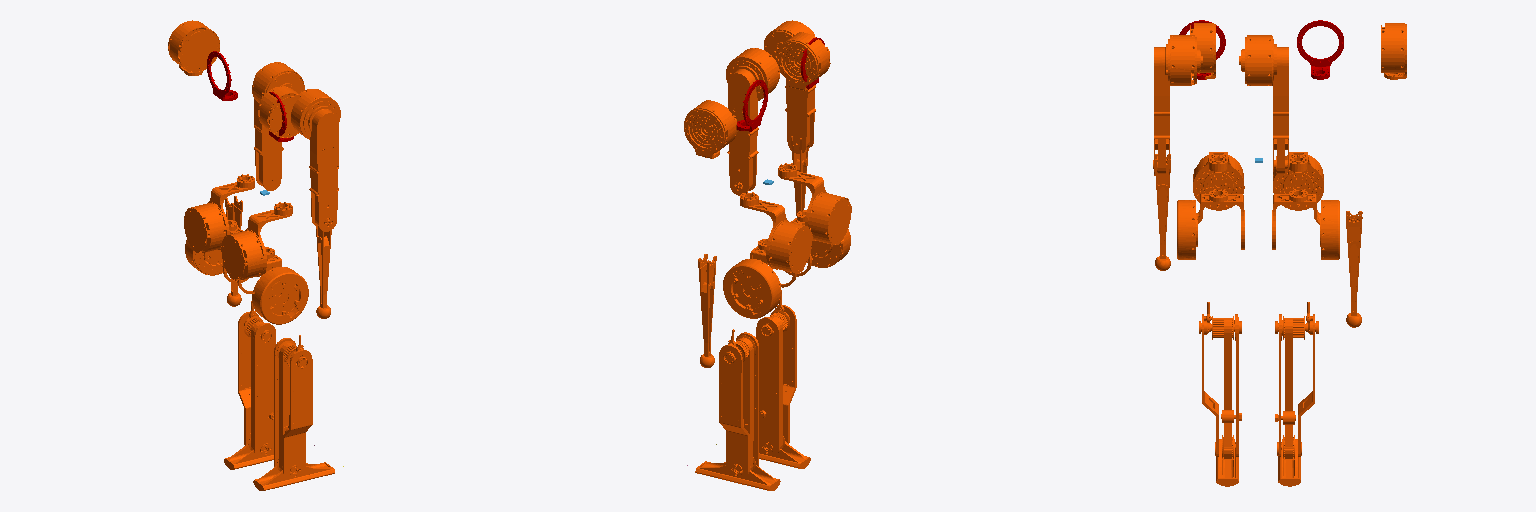
--- Facts derived from the render (not from the file) ---
Views: 3 orthographic renders of the robot side by side, from view 1: azimuth 30°, elevation 25°; view 2: azimuth 150°, elevation 25°; view 3: azimuth 270°, elevation 25°.
Model robot with 18 links and 17 joints (16 revolute, 1 fixed), rooted at base, posed every joint at zero.
Visible links, largest first — view 1: R_LShank, L_LShank, R_LUpperArm, R_LHipRx, L_LUpperArm, L_LForeArm, R_LHipRz, L_LHipRz, R_LForeArm, R_Foot, L_LHipRx, L_Foot (+1 smaller); view 2: L_LShank, R_LShank, L_LUpperArm, L_LForeArm, L_LHipRx, L_LHipRz, R_LForeArm, R_LHipRz, R_LUpperArm, L_Foot, R_LHipRx, R_Foot (+1 smaller); view 3: L_LUpperArm, R_LUpperArm, R_LShank, L_LForeArm, L_LShank, R_LForeArm, R_LHipRx, L_LHipRx, R_LHipRz, L_LHipRz, L_LShoulderRx, L_Foot (+1 smaller).
Link boxes in pixels (x1,y1,x2,y2): R_LShank: [274, 335, 312, 476]; L_LShank: [238, 301, 275, 455]; R_LUpperArm: [291, 89, 340, 231]; R_LHipRx: [237, 247, 308, 324]; L_LUpperArm: [252, 62, 304, 190]; L_LForeArm: [168, 20, 242, 306]; R_LHipRz: [221, 202, 292, 280]; L_LHipRz: [184, 174, 254, 252]; R_LForeArm: [258, 86, 331, 318]; R_Foot: [253, 459, 343, 490]; L_LHipRx: [185, 220, 247, 283]; L_Foot: [224, 438, 314, 469]; L_LShank: [719, 329, 758, 476]; R_LShank: [756, 294, 796, 453]; L_LUpperArm: [726, 48, 779, 195]; L_LForeArm: [684, 100, 737, 367]; L_LHipRx: [723, 239, 796, 318]; L_LHipRz: [740, 191, 812, 273]; R_LForeArm: [777, 32, 830, 215]; R_LHipRz: [778, 163, 851, 244]; R_LUpperArm: [764, 20, 815, 153]; L_Foot: [687, 457, 780, 490]; R_LHipRx: [785, 210, 850, 276]; R_Foot: [716, 436, 810, 468]; L_LUpperArm: [1239, 35, 1289, 175]; R_LUpperArm: [1153, 35, 1202, 175]; R_LShank: [1199, 302, 1241, 458]; L_LForeArm: [1346, 23, 1406, 327]; L_LShank: [1275, 302, 1318, 458]; R_LForeArm: [1155, 23, 1215, 270]; R_LHipRx: [1177, 190, 1244, 259]; L_LHipRx: [1272, 190, 1339, 259]; R_LHipRz: [1193, 152, 1244, 210]; L_LHipRz: [1273, 152, 1323, 210]; L_LShoulderRx: [1297, 20, 1343, 79]; L_Foot: [1278, 435, 1300, 486].
Size in the robot's own frame: 0.266 by 0.4786 by 0.8937 metres.
16 mesh visuals loaded from 17 distinct referenced files (14 OBJ); not drawn: 3 (reference not matched to a file when rendering).

The robot description file, URDF, robot "robot":
<?xml version="1.0" ?>
<!-- =================================================================================== -->
<!-- |    This document was autogenerated by xacro from [local-path]/Desktop/legged_control_zidong/src/legged_examples/legged_unitree/legged_unitree_description/urdf/robot.xacro | -->
<!-- |    EDITING THIS FILE BY HAND IS NOT RECOMMENDED                                 | -->
<!-- =================================================================================== -->
<robot name="robot">
  <material name="black">
    <color rgba="0.0 0.0 0.0 1.0"/>
  </material>
  <material name="blue">
    <color rgba="0.0 0.0 0.8 1.0"/>
  </material>
  <material name="green">
    <color rgba="0.0 0.8 0.0 1.0"/>
  </material>
  <material name="grey">
    <color rgba="0.2 0.2 0.2 1.0"/>
  </material>
  <material name="silver">
    <color rgba="0.9137254901960784 0.9137254901960784 0.8470588235294118 1.0"/>
  </material>
  <material name="orange">
    <color rgba="1.0 0.4235294117647059 0.0392156862745098 1.0"/>
  </material>
  <material name="brown">
    <color rgba="0.8705882352941177 0.8117647058823529 0.7647058823529411 1.0"/>
  </material>
  <material name="red">
    <color rgba="0.8 0.0 0.0 1.0"/>
  </material>
  <material name="white">
    <color rgba="1.0 1.0 1.0 1.0"/>
  </material>
  <!-- ros_control plugin -->
  <gazebo>
    <plugin filename="liblegged_hw_sim.so" name="gazebo_ros_control">
      <robotNamespace>/</robotNamespace>
      <robotParam>legged_robot_description</robotParam>
      <robotSimType>legged_gazebo/LeggedHWSim</robotSimType>
    </plugin>
  </gazebo>
  <gazebo>
    <plugin filename="libgazebo_ros_p3d.so" name="p3d_base_controller">
      <alwaysOn>true</alwaysOn>
      <updateRate>1000.0</updateRate>
      <bodyName>base</bodyName>
      <topicName>ground_truth/state</topicName>
      <gaussianNoise>0</gaussianNoise>
      <frameName>world</frameName>
      <xyzOffsets>0 0 0</xyzOffsets>
      <rpyOffsets>0 0 0</rpyOffsets>
    </plugin>
  </gazebo>
  <link name="base">
    <visual>
      <origin rpy="0 0 0" xyz="0 0 0"/>
      <geometry>
        <mesh filename="package://legged_unitree_description/meshes/a1/Body.obj" scale="1 1 1"/>
      </geometry>
    </visual>
    <collision>
      <origin rpy="0 0 0" xyz="0 0 0"/>
      <geometry>
        <box size="0.267 0.194 0.114"/>
      </geometry>
    </collision>
    <inertial>
      <origin rpy="0 0 0" xyz="0.0 0.0 0.15"/>
      <mass value="6.5"/>
      <inertia ixx="0.3006167" ixy="-0.0" ixz="-0.0" iyy="0.23837" iyz="-0.0" izz="0.09690467"/>
    </inertial>
  </link>
  <!-- Imu is fixed to the base link -->
  <joint name="unitree_imu_joint" type="fixed">
    <origin rpy="0. 0. 0." xyz="0. 0. 0."/>
    <parent link="base"/>
    <child link="unitree_imu"/>
  </joint>
  <!-- Imu link -->
  <link name="unitree_imu">
    <inertial>
      <mass value="0.01"/>
      <origin rpy="0 0 0" xyz="0 0 0"/>
      <inertia ixx="0.000001" ixy="0" ixz="0" iyy="0.000001" iyz="0" izz="0.000001"/>
    </inertial>
    <visual>
      <origin rpy="0 0 0" xyz="0 0 0"/>
      <geometry>
        <box size="0.015 0.015 0.004"/>
      </geometry>
    </visual>
    <material name="orange">
      <color rgba="255 108 10 255"/>
    </material>
  </link>
  <gazebo reference="unitree_imu">
    <material>Gazebo/Orange</material>
  </gazebo>
  <gazebo reference="unitree_imu_joint">
    <disableFixedJointLumping>true</disableFixedJointLumping>
  </gazebo>
  <joint name="L_JHipRz" type="revolute">
    <origin rpy="0 0 0" xyz="0 0.075 0"/>
    <parent link="base"/>
    <child link="L_LHipRz"/>
    <axis xyz="0 0 1"/>
    <dynamics damping="100" friction="100"/>
    <limit effort="33.5" lower="-3" upper="3" velocity="21"/>
  </joint>
  <link name="L_LHipRz">
    <visual>
      <origin rpy="0 0 0.0" xyz="0 0 0"/>
      <geometry>
        <mesh filename="package://legged_unitree_description/meshes/a1/L_HipRz.obj" scale="1 1 1"/>
      </geometry>
      <material name="orange"/>
    </visual>
    <inertial>
      <origin rpy="0 0 0" xyz="0.0 0.0 -0.01"/>
      <mass value="0.30"/>
      <inertia ixx="0.003735" ixy="0.0" ixz="0.0" iyy="0.01391" iyz="0.0" izz="0.01355"/>
    </inertial>
  </link>
  <joint name="L_JHipRx" type="revolute">
    <origin rpy="0 0 0" xyz="-0.041 0.0 -0.0885"/>
    <parent link="L_LHipRz"/>
    <child link="L_LHipRx"/>
    <axis xyz="1 0 0"/>
    <dynamics damping="100" friction="100"/>
    <limit effort="33.5" lower="-3" upper="3" velocity="33.5"/>
  </joint>
  <link name="L_LHipRx">
    <visual>
      <origin rpy="0 0 0" xyz="0. 0.00 0.0"/>
      <origin rpy="0 0 0.0" xyz="0 0 0.0"/>
      <geometry>
        <mesh filename="package://legged_unitree_description/meshes/a1/L_HipRx.obj" scale="1 1 1"/>
      </geometry>
      <material name="orange"/>
    </visual>
    <inertial>
      <origin rpy="0 0 0" xyz="0.0 0.0 -0.01"/>
      <mass value="0.30"/>
      <inertia ixx="0.003735" ixy="0.0" ixz="0.0" iyy="0.01391" iyz="0.0" izz="0.01355"/>
    </inertial>
  </link>
  <joint name="L_JThigh" type="revolute">
    <origin rpy="0 0 0" xyz="0.065 0.0 0.0"/>
    <parent link="L_LHipRx"/>
    <child link="L_LThigh"/>
    <axis xyz="0 1 0"/>
    <dynamics damping="100" friction="100"/>
    <limit effort="33.5" lower="-3" upper="3" velocity="33.5"/>
  </joint>
  <link name="L_LThigh">
    <visual>
      <origin rpy="1.57 1.57 -0" xyz="0. 0.0 0.0"/>
      <origin rpy="1.57 1.57 0.0" xyz="0 0.0 0.0"/>
      <geometry>
        <mesh filename="package://legged_unitree_description/meshes/a1/L_Thigh.obj" scale="1 1 1"/>
      </geometry>
      <material name="orange"/>
    </visual>
    <inertial>
      <origin rpy="0 0 0" xyz="0.0 0.0 -0.01"/>
      <mass value="1.0"/>
      <inertia ixx="0.003735" ixy="0.0" ixz="0.0" iyy="0.01391" iyz="0.0" izz="0.01355"/>
    </inertial>
  </link>
  <joint name="L_JKnee" type="revolute">
    <origin rpy="0 0 0" xyz="0.0 -0.017875 -0.247"/>
    <parent link="L_LThigh"/>
    <child link="L_LShank"/>
    <axis xyz="0 1 0"/>
    <dynamics damping="100" friction="100"/>
    <limit effort="33.5" lower="-3" upper="3" velocity="33.5"/>
  </joint>
  <link name="L_LShank">
    <visual>
      <origin rpy="1.57 1.57 0" xyz="0 -0.0 0"/>
      <geometry>
        <mesh filename="package://legged_unitree_description/meshes/a1/L_LowerLeg3_drawing.obj" scale="1 1 1"/>
      </geometry>
      <material name="orange"/>
    </visual>
    <inertial>
      <origin rpy="0 0 0" xyz="-0.03416 -0.00075 -0.01"/>
      <mass value="0.70"/>
      <inertia ixx="0.003735" ixy="0.0" ixz="0.0" iyy="0.01391" iyz="0.0" izz="0.01355"/>
    </inertial>
  </link>
  <joint name="L_JAnkle" type="revolute">
    <origin rpy="0 0 0" xyz="0.0 0.0 -0.247"/>
    <parent link="L_LShank"/>
    <child link="L_Foot"/>
    <axis xyz="0 1 0"/>
    <dynamics damping="100" friction="100"/>
    <limit effort="33.5" lower="-3" upper="3" velocity="33.5"/>
  </joint>
  <link name="L_Foot">
    <visual>
      <origin rpy="1.57 1.57 0" xyz="0 0 0"/>
      <geometry>
        <mesh filename="package://legged_unitree_description/meshes/a1/L_foot_drawing.obj" scale="1 1 1"/>
      </geometry>
      <material name="orange"/>
    </visual>
    <visual>
      <geometry>
        <sphere radius="0.001"/>
      </geometry>
      <origin rpy="0 0 0" xyz="0.125 0.0 -0.033"/>
    </visual>
    <collision>
      <geometry>
        <sphere radius="0.0"/>
      </geometry>
      <origin rpy="0 0 0" xyz="0.125 0.0 -0.033"/>
    </collision>
    <visual>
      <geometry>
        <sphere radius="0.001"/>
      </geometry>
      <origin rpy="0 0 0" xyz="-0.025 0.0 -0.033"/>
    </visual>
    <collision>
      <geometry>
        <sphere radius="0.0"/>
      </geometry>
      <origin rpy="0 0 0" xyz="-0.025 0.0 -0.033"/>
    </collision>
    <inertial>
      <origin rpy="0 0 0" xyz="0.0 0.0 -0.01"/>
      <mass value="0.30"/>
      <inertia ixx="0.003735" ixy="0.0" ixz="0.0" iyy="0.01391" iyz="0.0" izz="0.01355"/>
    </inertial>
  </link>
  <gazebo reference="L_LHipRz">
    <mu1>0.2</mu1>
    <mu2>0.2</mu2>
    <material>Gazebo/DarkGrey</material>
    <kp value="1000000.0"/>
    <kd value="100.0"/>
  </gazebo>
  <gazebo reference="L_LHipRx">
    <mu1>0.2</mu1>
    <mu2>0.2</mu2>
    <material>Gazebo/DarkGrey</material>
    <kp value="1000000.0"/>
    <kd value="100.0"/>
  </gazebo>
  <gazebo reference="L_LThigh">
    <mu1>0.2</mu1>
    <mu2>0.2</mu2>
    <material>Gazebo/DarkGrey</material>
    <kp value="1000000.0"/>
    <kd value="100.0"/>
  </gazebo>
  <gazebo reference="L_LShank">
    <mu1>0.2</mu1>
    <mu2>0.2</mu2>
    <material>Gazebo/DarkGrey</material>
    <kp value="1000000.0"/>
    <kd value="100.0"/>
  </gazebo>
  <gazebo reference="L_Foot">
    <mu1>0.2</mu1>
    <mu2>0.2</mu2>
    <material>Gazebo/DarkGrey</material>
    <kp value="1000000.0"/>
    <kd value="100.0"/>
  </gazebo>
  <transmission name="L_JHipRz_tran">
    <type>transmission_interface/SimpleTransmission</type>
    <joint name="L_JHipRz">
      <hardwareInterface>hardware_interface/EffortJointInterface</hardwareInterface>
    </joint>
    <actuator name="L_JHipRz_motor">
      <hardwareInterface>hardware_interface/EffortJointInterface</hardwareInterface>
      <mechanicalReduction>1</mechanicalReduction>
    </actuator>
  </transmission>
  <transmission name="L_JHipRx_tran">
    <type>transmission_interface/SimpleTransmission</type>
    <joint name="L_JHipRx">
      <hardwareInterface>hardware_interface/EffortJointInterface</hardwareInterface>
    </joint>
    <actuator name="L_JHipRx_motor">
      <hardwareInterface>hardware_interface/EffortJointInterface</hardwareInterface>
      <mechanicalReduction>1</mechanicalReduction>
    </actuator>
  </transmission>
  <transmission name="L_JThigh_tran">
    <type>transmission_interface/SimpleTransmission</type>
    <joint name="L_JThigh">
      <hardwareInterface>hardware_interface/EffortJointInterface</hardwareInterface>
    </joint>
    <actuator name="L_JThigh_motor">
      <hardwareInterface>hardware_interface/EffortJointInterface</hardwareInterface>
      <mechanicalReduction>1</mechanicalReduction>
    </actuator>
  </transmission>
  <transmission name="L_JKnee_tran">
    <type>transmission_interface/SimpleTransmission</type>
    <joint name="L_JKnee">
      <hardwareInterface>hardware_interface/EffortJointInterface</hardwareInterface>
    </joint>
    <actuator name="L_JKnee_motor">
      <hardwareInterface>hardware_interface/EffortJointInterface</hardwareInterface>
      <mechanicalReduction>1</mechanicalReduction>
    </actuator>
  </transmission>
  <transmission name="L_JAnkle_tran">
    <type>transmission_interface/SimpleTransmission</type>
    <joint name="L_JAnkle">
      <hardwareInterface>hardware_interface/EffortJointInterface</hardwareInterface>
    </joint>
    <actuator name="L_JAnkle_motor">
      <hardwareInterface>hardware_interface/EffortJointInterface</hardwareInterface>
      <mechanicalReduction>1</mechanicalReduction>
    </actuator>
  </transmission>
  <joint name="R_JHipRz" type="revolute">
    <origin rpy="0 0 0" xyz="0 -0.075 0"/>
    <parent link="base"/>
    <child link="R_LHipRz"/>
    <axis xyz="0 0 1"/>
    <dynamics damping="100" friction="100"/>
    <limit effort="33.5" lower="-3" upper="3" velocity="21"/>
  </joint>
  <link name="R_LHipRz">
    <visual>
      <origin rpy="0 0 0.0" xyz="0 0 0"/>
      <geometry>
        <mesh filename="package://legged_unitree_description/meshes/a1/R_HipRz.obj" scale="1 1 1"/>
      </geometry>
      <material name="orange"/>
    </visual>
    <inertial>
      <origin rpy="0 0 0" xyz="0.0 0.0 -0.01"/>
      <mass value="0.30"/>
      <inertia ixx="0.003735" ixy="0.0" ixz="0.0" iyy="0.01391" iyz="0.0" izz="0.01355"/>
    </inertial>
  </link>
  <joint name="R_JHipRx" type="revolute">
    <origin rpy="0 0 0" xyz="-0.041 0.0 -0.0885"/>
    <parent link="R_LHipRz"/>
    <child link="R_LHipRx"/>
    <axis xyz="1 0 0"/>
    <dynamics damping="100" friction="100"/>
    <limit effort="33.5" lower="-3" upper="3" velocity="33.5"/>
  </joint>
  <link name="R_LHipRx">
    <visual>
      <origin rpy="0 0 0.0" xyz="0 0 0.0"/>
      <geometry>
        <mesh filename="package://legged_unitree_description/meshes/a1/R_HipRx.obj" scale="1 1 1"/>
      </geometry>
      <material name="orange"/>
    </visual>
    <inertial>
      <origin rpy="0 0 0" xyz="0.0 0.0 -0.01"/>
      <mass value="0.30"/>
      <inertia ixx="0.003735" ixy="0.0" ixz="0.0" iyy="0.01391" iyz="0.0" izz="0.01355"/>
    </inertial>
  </link>
  <joint name="R_JThigh" type="revolute">
    <origin rpy="0 0 0" xyz="0.065 0.0 0.0"/>
    <parent link="R_LHipRx"/>
    <child link="R_LThigh"/>
    <axis xyz="0 1 0"/>
    <dynamics damping="100" friction="100"/>
    <limit effort="33.5" lower="-3" upper="3" velocity="33.5"/>
  </joint>
  <link name="R_LThigh">
    <visual>
      <origin rpy="1.57 1.57 0.0" xyz="0 0.0 0.0"/>
      <geometry>
        <mesh filename="package://legged_unitree_description/meshes/a1/R_Thigh.obj" scale="1 1 1"/>
      </geometry>
      <material name="orange"/>
    </visual>
    <inertial>
      <origin rpy="0 0 0" xyz="0.0 0.0 -0.01"/>
      <mass value="1.0"/>
      <inertia ixx="0.003735" ixy="0.0" ixz="0.0" iyy="0.01391" iyz="0.0" izz="0.01355"/>
    </inertial>
  </link>
  <joint name="R_JKnee" type="revolute">
    <origin rpy="0 0 0" xyz="0.0 0.017875 -0.247"/>
    <parent link="R_LThigh"/>
    <child link="R_LShank"/>
    <axis xyz="0 1 0"/>
    <dynamics damping="100" friction="100"/>
    <limit effort="33.5" lower="-3" upper="3" velocity="33.5"/>
  </joint>
  <link name="R_LShank">
    <visual>
      <origin rpy="1.57 1.57 0" xyz="0 -0.0 0"/>
      <geometry>
        <mesh filename="package://legged_unitree_description/meshes/a1/R_LowerLeg3_drawing.obj" scale="1 1 1"/>
      </geometry>
      <material name="orange"/>
    </visual>
    <inertial>
      <origin rpy="0 0 0" xyz="-0.03416 -0.00075 -0.01"/>
      <mass value="0.70"/>
      <inertia ixx="0.003735" ixy="0.0" ixz="0.0" iyy="0.01391" iyz="0.0" izz="0.01355"/>
    </inertial>
  </link>
  <joint name="R_JAnkle" type="revolute">
    <origin rpy="0 0 0" xyz="0.0 0.0 -0.247"/>
    <parent link="R_LShank"/>
    <child link="R_Foot"/>
    <axis xyz="0 1 0"/>
    <dynamics damping="100" friction="100"/>
    <limit effort="33.5" lower="-3" upper="3" velocity="33.5"/>
  </joint>
  <link name="R_Foot">
    <visual>
      <origin rpy="1.57 1.57 0" xyz="0 0 0"/>
      <geometry>
        <mesh filename="package://legged_unitree_description/meshes/a1/R_foot_drawing.obj" scale="1 1 1"/>
      </geometry>
      <material name="orange"/>
    </visual>
    <visual>
      <geometry>
        <sphere radius="0.001"/>
      </geometry>
      <origin rpy="0 0 0" xyz="0.125 0.0 -0.033"/>
    </visual>
    <collision>
      <geometry>
        <sphere radius="0.0"/>
      </geometry>
      <origin rpy="0 0 0" xyz="0.125 0.0 -0.033"/>
    </collision>
    <visual>
      <geometry>
        <sphere radius="0.001"/>
      </geometry>
      <origin rpy="0 0 0" xyz="-0.025 0.0 -0.033"/>
    </visual>
    <collision>
      <geometry>
        <sphere radius="0.0"/>
      </geometry>
      <origin rpy="0 0 0" xyz="-0.025 0.0 -0.033"/>
    </collision>
    <inertial>
      <origin rpy="0 0 0" xyz="0.0 0.0 -0.01"/>
      <mass value="0.30"/>
      <inertia ixx="0.003735" ixy="0.0" ixz="0.0" iyy="0.01391" iyz="0.0" izz="0.01355"/>
    </inertial>
  </link>
  <gazebo reference="R_LHipRz">
    <mu1>0.2</mu1>
    <mu2>0.2</mu2>
    <material>Gazebo/DarkGrey</material>
    <kp value="1000000.0"/>
    <kd value="100.0"/>
  </gazebo>
  <gazebo reference="R_LHipRx">
    <mu1>0.2</mu1>
    <mu2>0.2</mu2>
    <material>Gazebo/DarkGrey</material>
    <kp value="1000000.0"/>
    <kd value="100.0"/>
  </gazebo>
  <gazebo reference="R_LThigh">
    <mu1>0.2</mu1>
    <mu2>0.2</mu2>
    <material>Gazebo/DarkGrey</material>
    <kp value="1000000.0"/>
    <kd value="100.0"/>
  </gazebo>
  <gazebo reference="R_LShank">
    <mu1>0.2</mu1>
    <mu2>0.2</mu2>
    <material>Gazebo/DarkGrey</material>
    <kp value="1000000.0"/>
    <kd value="100.0"/>
  </gazebo>
  <gazebo reference="R_Foot">
    <mu1>0.2</mu1>
    <mu2>0.2</mu2>
    <material>Gazebo/DarkGrey</material>
    <kp value="1000000.0"/>
    <kd value="100.0"/>
  </gazebo>
  <transmission name="R_JHipRz_tran">
    <type>transmission_interface/SimpleTransmission</type>
    <joint name="R_JHipRz">
      <hardwareInterface>hardware_interface/EffortJointInterface</hardwareInterface>
    </joint>
    <actuator name="R_JHipRz_motor">
      <hardwareInterface>hardware_interface/EffortJointInterface</hardwareInterface>
      <mechanicalReduction>1</mechanicalReduction>
    </actuator>
  </transmission>
  <transmission name="R_JHipRx_tran">
    <type>transmission_interface/SimpleTransmission</type>
    <joint name="R_JHipRx">
      <hardwareInterface>hardware_interface/EffortJointInterface</hardwareInterface>
    </joint>
    <actuator name="R_JHipRx_motor">
      <hardwareInterface>hardware_interface/EffortJointInterface</hardwareInterface>
      <mechanicalReduction>1</mechanicalReduction>
    </actuator>
  </transmission>
  <transmission name="R_JThigh_tran">
    <type>transmission_interface/SimpleTransmission</type>
    <joint name="R_JThigh">
      <hardwareInterface>hardware_interface/EffortJointInterface</hardwareInterface>
    </joint>
    <actuator name="R_JThigh_motor">
      <hardwareInterface>hardware_interface/EffortJointInterface</hardwareInterface>
      <mechanicalReduction>1</mechanicalReduction>
    </actuator>
  </transmission>
  <transmission name="R_JKnee_tran">
    <type>transmission_interface/SimpleTransmission</type>
    <joint name="R_JKnee">
      <hardwareInterface>hardware_interface/EffortJointInterface</hardwareInterface>
    </joint>
    <actuator name="R_JKnee_motor">
      <hardwareInterface>hardware_interface/EffortJointInterface</hardwareInterface>
      <mechanicalReduction>1</mechanicalReduction>
    </actuator>
  </transmission>
  <transmission name="R_JAnkle_tran">
    <type>transmission_interface/SimpleTransmission</type>
    <joint name="R_JAnkle">
      <hardwareInterface>hardware_interface/EffortJointInterface</hardwareInterface>
    </joint>
    <actuator name="R_JAnkle_motor">
      <hardwareInterface>hardware_interface/EffortJointInterface</hardwareInterface>
      <mechanicalReduction>1</mechanicalReduction>
    </actuator>
  </transmission>
  <joint name="L_JShoulderRx" type="revolute">
    <origin rpy="0 0 0" xyz="-0.0215 0.1115 0.202"/>
    <parent link="base"/>
    <child link="L_LShoulderRx"/>
    <axis xyz="1 0 0"/>
    <dynamics damping="100" friction="100"/>
    <limit effort="33.5" lower="-3" upper="3" velocity="21"/>
  </joint>
  <link name="L_LShoulderRx">
    <visual>
      <origin rpy="3.14 0 -1.570" xyz="0.006 -0.005 -0.034"/>
      <origin rpy="3.14 0 -1.570" xyz="0.006 0.005 -0.034"/>
      <geometry>
        <mesh filename="package://legged_unitree_description/meshes/a1/L_ShoulderRx.obj" scale="1 1 1"/>
      </geometry>
      <material name="red"/>
    </visual>
    <inertial>
      <origin rpy="0 0 0" xyz="0.01 0.0 0.0"/>
      <mass value="0.30"/>
      <inertia ixx="0.003735" ixy="0.0" ixz="0.0" iyy="0.01391" iyz="0.0" izz="0.01355"/>
    </inertial>
  </link>
  <joint name="L_JUpperArm" type="revolute">
    <origin rpy="0 0 0" xyz="0.0545 0.0 0.0"/>
    <parent link="L_LShoulderRx"/>
    <child link="L_LUpperArm"/>
    <axis xyz="0 1 0"/>
    <dynamics damping="100" friction="100"/>
    <limit effort="33.5" lower="-3" upper="3" velocity="33.5"/>
  </joint>
  <link name="L_LUpperArm">
    <visual>
      <origin rpy="1.57 1.57 0" xyz="0. 0.07 0.02"/>
      <origin rpy="1.57 1.57 0.0" xyz="0 -0.07 0.02"/>
      <geometry>
        <mesh filename="package://legged_unitree_description/meshes/a1/L_UpperArm.obj" scale="1 1 1"/>
      </geometry>
      <material name="orange"/>
    </visual>
    <inertial>
      <origin rpy="0 0 0" xyz="0.0 0.0 -0.09"/>
      <mass value="0.37"/>
      <inertia ixx="0.003735" ixy="0.0" ixz="0.0" iyy="0.01391" iyz="0.0" izz="0.01355"/>
    </inertial>
  </link>
  <joint name="L_JForeArm" type="revolute">
    <origin rpy="0 0 0" xyz="0.0 0.068 -0.195"/>
    <parent link="L_LUpperArm"/>
    <child link="L_LForeArm"/>
    <axis xyz="0 1 0"/>
    <dynamics damping="100" friction="100"/>
    <limit effort="33.5" lower="-3" upper="3" velocity="33.5"/>
  </joint>
  <link name="L_LForeArm">
    <visual>
      <origin rpy="0 0 0" xyz="-0.05 -0.075 0.16"/>
      <origin rpy="0 0 3.14" xyz="-0.05 0.075 0.16"/>
      <geometry>
        <mesh filename="package://legged_unitree_description/meshes/a1/R_ShoulderRx.obj" scale="1 1 1"/>
      </geometry>
      <material name="orange"/>
    </visual>
    <visual>
      <origin rpy="0 1.570 0.0" xyz="-0.0 -0.0 0.0"/>
      <origin rpy="0 1.570 0.0" xyz="-0.0 0.0 -0.102"/>
      <geometry>
        <mesh filename="package://legged_unitree_description/meshes/a1/L_ForeArm2.obj" scale="1 1 1"/>
      </geometry>
      <material name="orange"/>
    </visual>
    <inertial>
      <origin rpy="0 0 0" xyz="0.0 0.0 -0.04"/>
      <mass value="0.1"/>
      <inertia ixx="0.003735" ixy="0.0" ixz="0.0" iyy="0.01391" iyz="0.0" izz="0.01355"/>
    </inertial>
  </link>
  <gazebo reference="L_LShoulderRx">
    <mu1>0.2</mu1>
    <mu2>0.2</mu2>
    <material>Gazebo/DarkGrey</material>
    <kp value="1000000.0"/>
    <kd value="100.0"/>
  </gazebo>
  <gazebo reference="L_LShoulderRx">
    <mu1>0.2</mu1>
    <mu2>0.2</mu2>
    <material>Gazebo/DarkGrey</material>
    <kp value="1000000.0"/>
    <kd value="100.0"/>
  </gazebo>
  <gazebo reference="L_LUpperArm">
    <mu1>0.2</mu1>
    <mu2>0.2</mu2>
    <material>Gazebo/DarkGrey</material>
    <kp value="1000000.0"/>
    <kd value="100.0"/>
  </gazebo>
  <transmission name="L_JShoulderRx_tran">
    <type>transmission_interface/SimpleTransmission</type>
    <joint name="L_JShoulderRx">
      <hardwareInterface>hardware_interface/EffortJointInterface</hardwareInterface>
    </joint>
    <actuator name="L_JShoulderRx_motor">
      <hardwareInterface>hardware_interface/EffortJointInterface</hardwareInterface>
      <mechanicalReduction>1</mechanicalReduction>
    </actuator>
  </transmission>
  <transmission name="L_JUpperArm_tran">
    <type>transmission_interface/SimpleTransmission</type>
    <joint name="L_JUpperArm">
      <hardwareInterface>hardware_interface/EffortJointInterface</hardwareInterface>
    </joint>
    <actuator name="L_JUpperArm_motor">
      <hardwareInterface>hardware_interface/EffortJointInterface</hardwareInterface>
      <mechanicalReduction>1</mechanicalReduction>
    </actuator>
  </transmission>
  <transmission name="L_JForeArm_tran">
    <type>transmission_interface/SimpleTransmission</type>
    <joint name="L_JForeArm">
      <hardwareInterface>hardware_interface/EffortJointInterface</hardwareInterface>
    </joint>
    <actuator name="L_JForeArm_motor">
      <hardwareInterface>hardware_interface/EffortJointInterface</hardwareInterface>
      <mechanicalReduction>1</mechanicalReduction>
    </actuator>
  </transmission>
  <joint name="R_JShoulderRx" type="revolute">
    <origin rpy="0 0 0" xyz="-0.0215 -0.1115 0.202"/>
    <parent link="base"/>
    <child link="R_LShoulderRx"/>
    <axis xyz="1 0 0"/>
    <dynamics damping="100" friction="100"/>
    <limit effort="33.5" lower="-3" upper="3" velocity="21"/>
  </joint>
  <link name="R_LShoulderRx">
    <visual>
      <origin rpy="3.14 0 -1.570" xyz="0.006 0.005 -0.034"/>
      <geometry>
        <mesh filename="package://legged_unitree_description/meshes/a1/L_ShoulderRx.obj" scale="1 1 1"/>
      </geometry>
      <material name="red"/>
    </visual>
    <inertial>
      <origin rpy="0 0 0" xyz="0.01 0.0 0.0"/>
      <mass value="0.30"/>
      <inertia ixx="0.003735" ixy="0.0" ixz="0.0" iyy="0.01391" iyz="0.0" izz="0.01355"/>
    </inertial>
  </link>
  <joint name="R_JUpperArm" type="revolute">
    <origin rpy="0 0 0" xyz="0.0545 0.0 0.0"/>
    <parent link="R_LShoulderRx"/>
    <child link="R_LUpperArm"/>
    <axis xyz="0 1 0"/>
    <dynamics damping="100" friction="100"/>
    <limit effort="33.5" lower="-3" upper="3" velocity="33.5"/>
  </joint>
  <link name="R_LUpperArm">
    <visual>
      <origin rpy="1.57 1.57 0.0" xyz="0 -0.07 0.02"/>
      <geometry>
        <mesh filename="package://legged_unitree_description/meshes/a1/R_UpperArm.obj" scale="1 1 1"/>
      </geometry>
      <material name="orange"/>
    </visual>
    <inertial>
      <origin rpy="0 0 0" xyz="0.0 0.0 -0.09"/>
      <mass value="0.37"/>
      <inertia ixx="0.003735" ixy="0.0" ixz="0.0" iyy="0.01391" iyz="0.0" izz="0.01355"/>
    </inertial>
  </link>
  <joint name="R_JForeArm" type="revolute">
    <origin rpy="0 0 0" xyz="0.0 -0.068 -0.195"/>
    <parent link="R_LUpperArm"/>
    <child link="R_LForeArm"/>
    <axis xyz="0 1 0"/>
    <dynamics damping="100" friction="100"/>
    <limit effort="33.5" lower="-3" upper="3" velocity="33.5"/>
  </joint>
  <link name="R_LForeArm">
    <visual>
      <origin rpy="0 0 3.14" xyz="-0.05 0.075 0.16"/>
      <geometry>
        <mesh filename="package://legged_unitree_description/meshes/a1/R_ShoulderRx.obj" scale="1 1 1"/>
      </geometry>
      <material name="orange"/>
    </visual>
    <visual>
      <origin rpy="0 1.570 0.0" xyz="-0.0 0.0 -0.102"/>
      <geometry>
        <mesh filename="package://legged_unitree_description/meshes/a1/R_ForeArm2.obj" scale="1 1 1"/>
      </geometry>
      <material name="orange"/>
    </visual>
    <inertial>
      <origin rpy="0 0 0" xyz="0.0 0.0 -0.04"/>
      <mass value="0.1"/>
      <inertia ixx="0.003735" ixy="0.0" ixz="0.0" iyy="0.01391" iyz="0.0" izz="0.01355"/>
    </inertial>
  </link>
  <gazebo reference="R_LShoulderRx">
    <mu1>0.2</mu1>
    <mu2>0.2</mu2>
    <material>Gazebo/DarkGrey</material>
    <kp value="1000000.0"/>
    <kd value="100.0"/>
  </gazebo>
  <gazebo reference="R_LShoulderRx">
    <mu1>0.2</mu1>
    <mu2>0.2</mu2>
    <material>Gazebo/DarkGrey</material>
    <kp value="1000000.0"/>
    <kd value="100.0"/>
  </gazebo>
  <gazebo reference="R_LUpperArm">
    <mu1>0.2</mu1>
    <mu2>0.2</mu2>
    <material>Gazebo/DarkGrey</material>
    <kp value="1000000.0"/>
    <kd value="100.0"/>
  </gazebo>
  <transmission name="R_JShoulderRx_tran">
    <type>transmission_interface/SimpleTransmission</type>
    <joint name="R_JShoulderRx">
      <hardwareInterface>hardware_interface/EffortJointInterface</hardwareInterface>
    </joint>
    <actuator name="R_JShoulderRx_motor">
      <hardwareInterface>hardware_interface/EffortJointInterface</hardwareInterface>
      <mechanicalReduction>1</mechanicalReduction>
    </actuator>
  </transmission>
  <transmission name="R_JUpperArm_tran">
    <type>transmission_interface/SimpleTransmission</type>
    <joint name="R_JUpperArm">
      <hardwareInterface>hardware_interface/EffortJointInterface</hardwareInterface>
    </joint>
    <actuator name="R_JUpperArm_motor">
      <hardwareInterface>hardware_interface/EffortJointInterface</hardwareInterface>
      <mechanicalReduction>1</mechanicalReduction>
    </actuator>
  </transmission>
  <transmission name="R_JForeArm_tran">
    <type>transmission_interface/SimpleTransmission</type>
    <joint name="R_JForeArm">
      <hardwareInterface>hardware_interface/EffortJointInterface</hardwareInterface>
    </joint>
    <actuator name="R_JForeArm_motor">
      <hardwareInterface>hardware_interface/EffortJointInterface</hardwareInterface>
      <mechanicalReduction>1</mechanicalReduction>
    </actuator>
  </transmission>
</robot>
